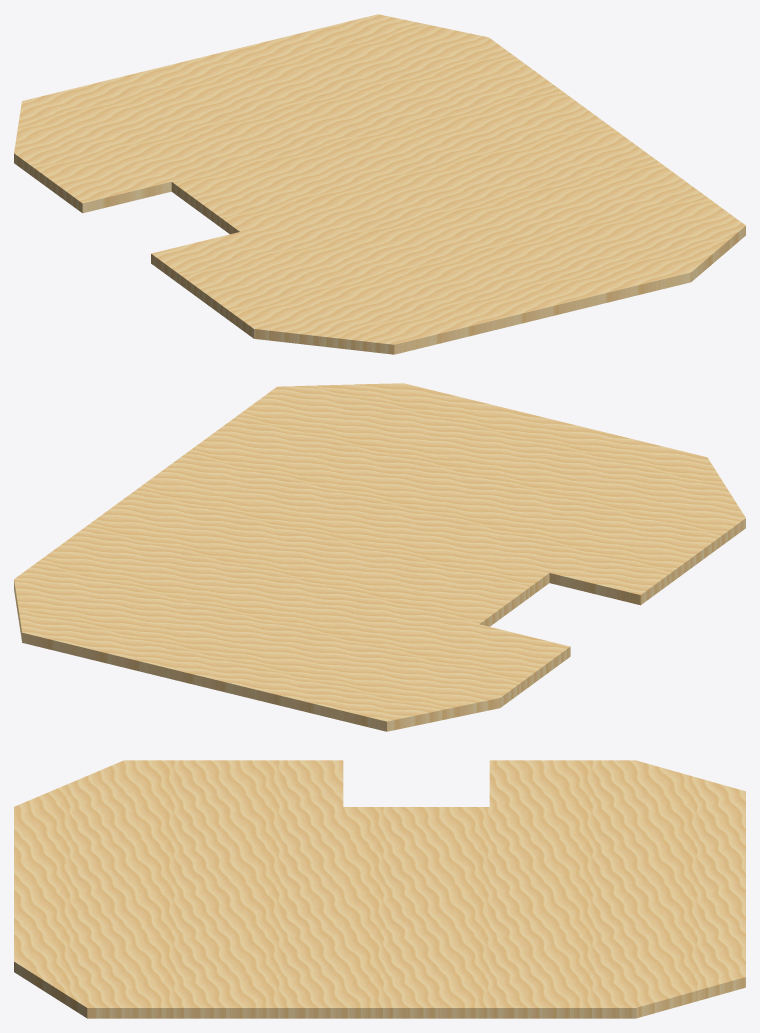
The model's file is seabed-02-mHP5y3AL.glb.
3 views of the same model, one above another, from view 1: azimuth 30°, elevation 25°; view 2: azimuth 150°, elevation 25°; view 3: azimuth 270°, elevation 25° (orthographic). The views are drawn at different scales.
Visible parts, largest first — view 1: SW_SandShelf; view 2: SW_SandShelf; view 3: SW_SandShelf.
Part boxes in pixels (x1,y1,x2,y2): SW_SandShelf: [14, 14, 745, 354]; SW_SandShelf: [14, 383, 745, 731]; SW_SandShelf: [14, 760, 745, 1018].
Size of what is drawn, in the model's own units: 16 by 0.32 by 20.
Materials: 1 (1 with a texture image).
